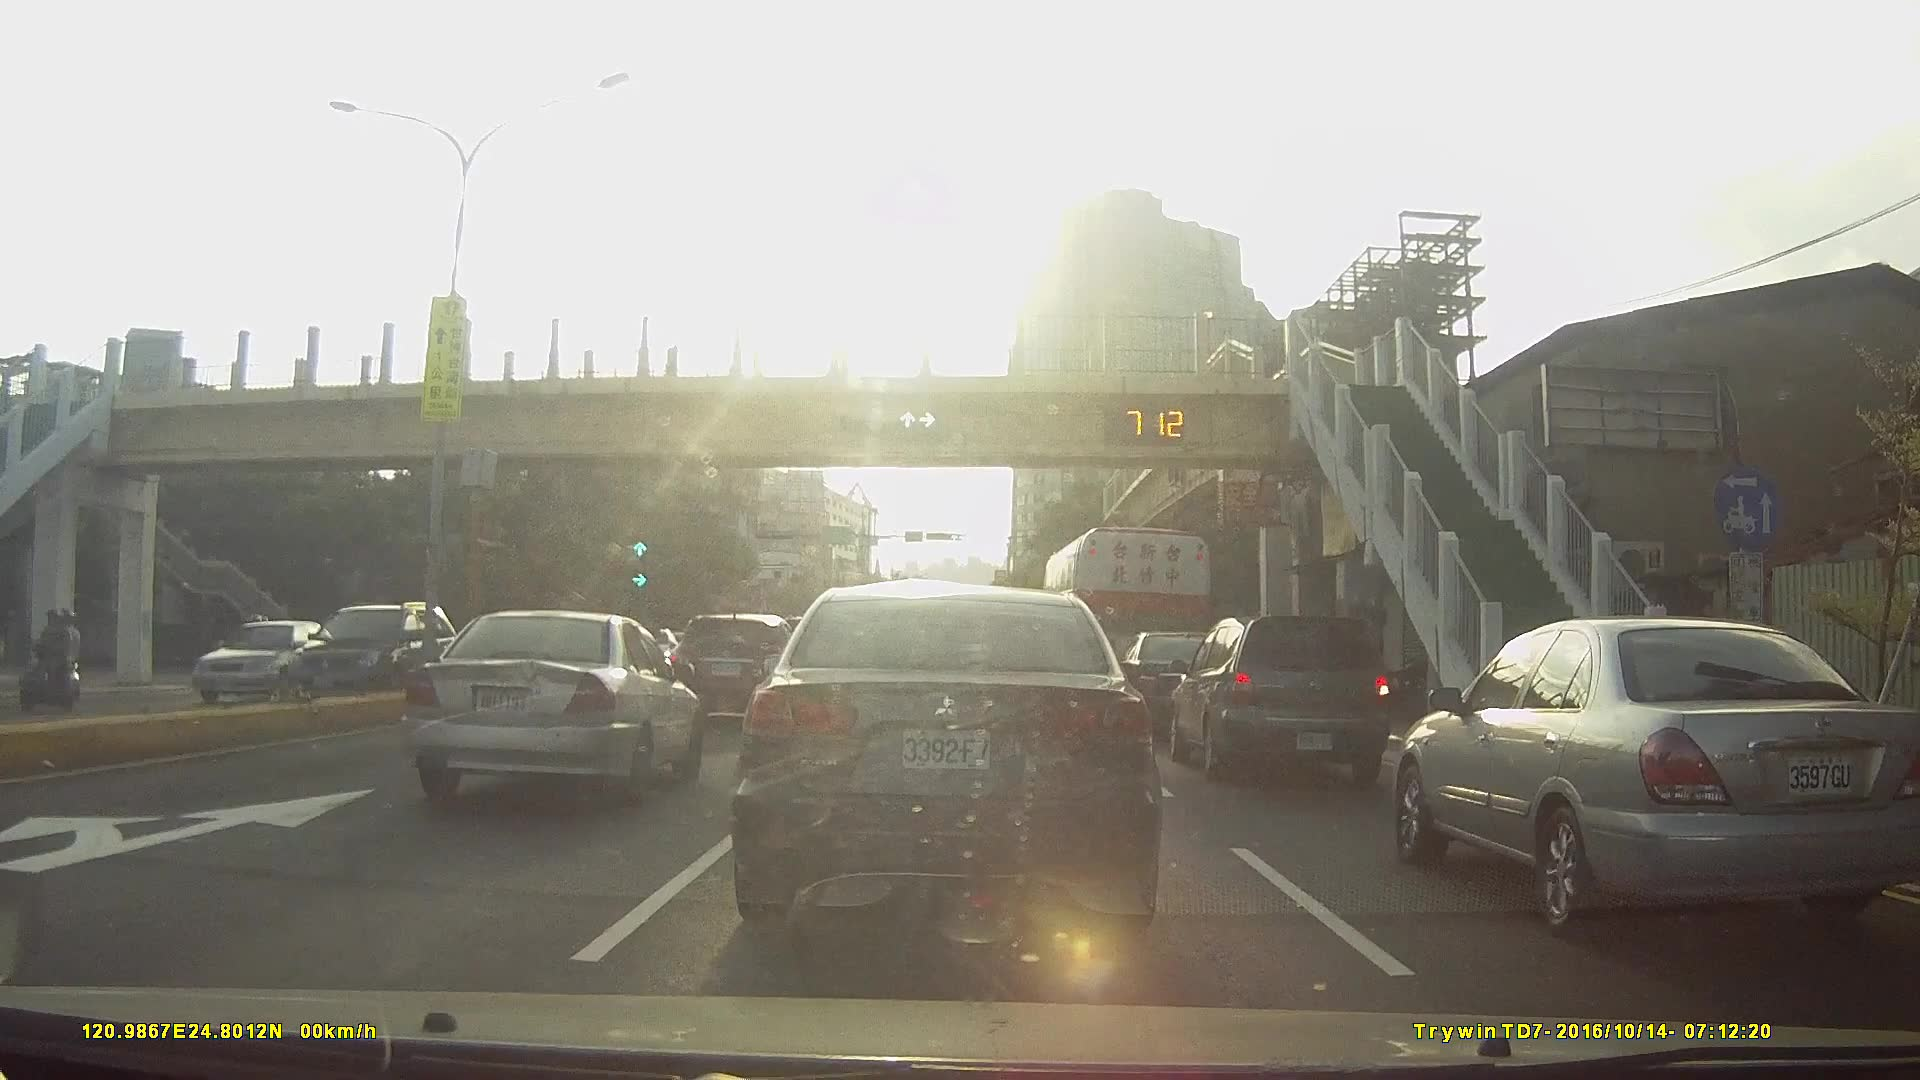rider: (7, 609, 77, 709)
vehicle: (1401, 612, 1920, 939), (727, 573, 1167, 954), (407, 605, 705, 794), (1171, 609, 1410, 783), (274, 593, 481, 714), (173, 618, 347, 708), (669, 606, 803, 718), (1118, 629, 1251, 732)
